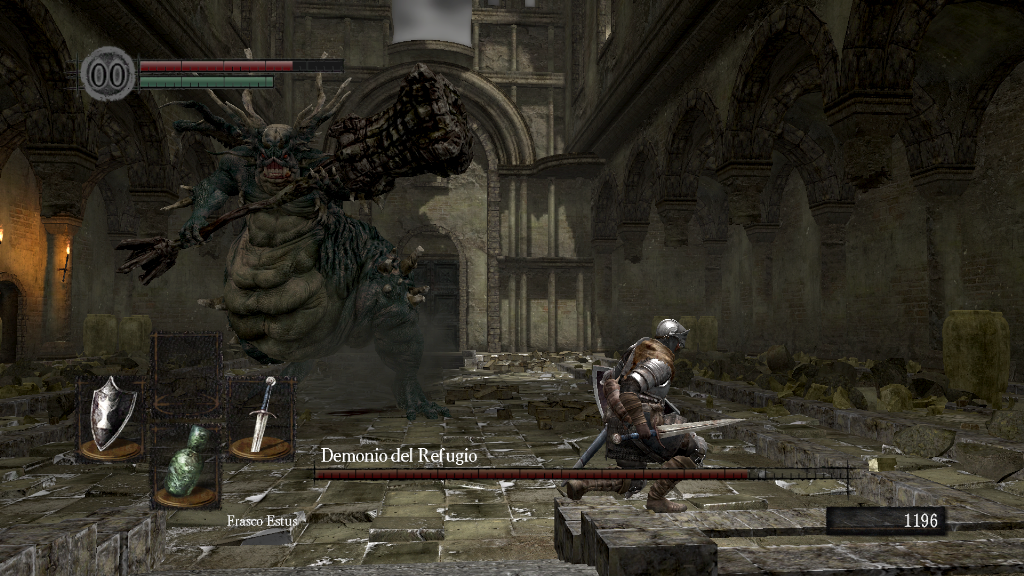asylumDemon: (112, 50, 475, 426)
bossHP: (314, 469, 847, 479)
health: (138, 58, 343, 71)
humanity: (80, 45, 136, 102)
player: (590, 317, 749, 513)
souls: (825, 506, 945, 536)
stamina: (138, 74, 274, 88)
